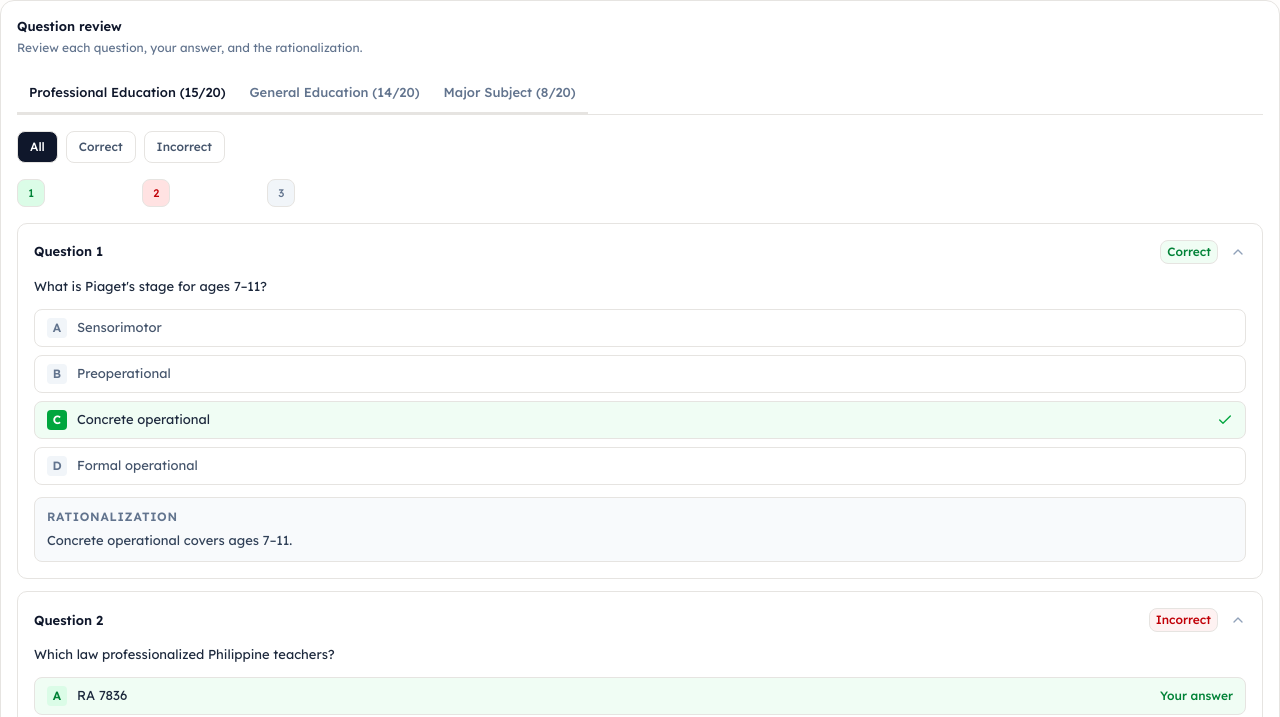
Test: QuestionReview › expands and collapses question detail
The image size is (1280, 717).
Check: the text "What is Piaget's stage for ages 7–11?" is shown, box 34,278 -> 267,294
Click the button with test id "question-toggle" showing "Question 1 Correct". click: x=65, y=251
box: 34,240 -> 1246,264
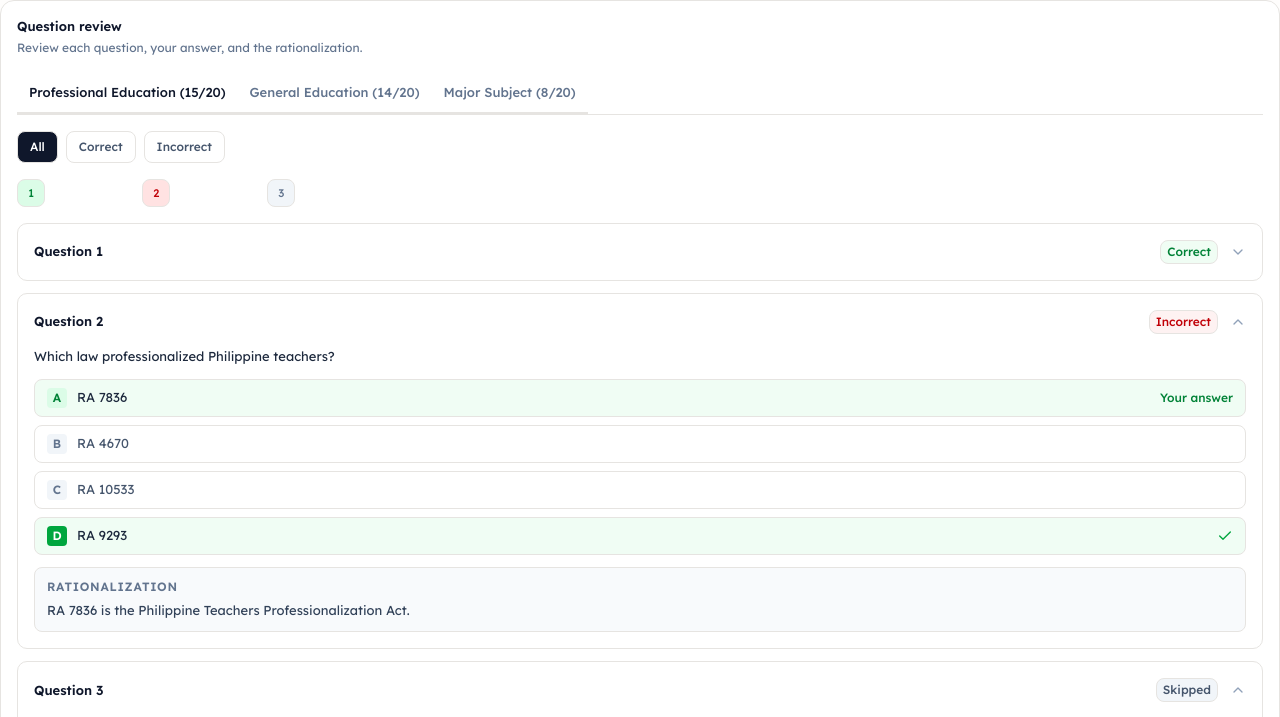
Check: the text "What is Piaget's stage for ages 7–11?" is gone
Check: the button with test id "question-toggle" is collapsed
Click the button with test id "question-toggle" showing "Question 1 Correct". click: x=65, y=251
box: 34,240 -> 1246,264
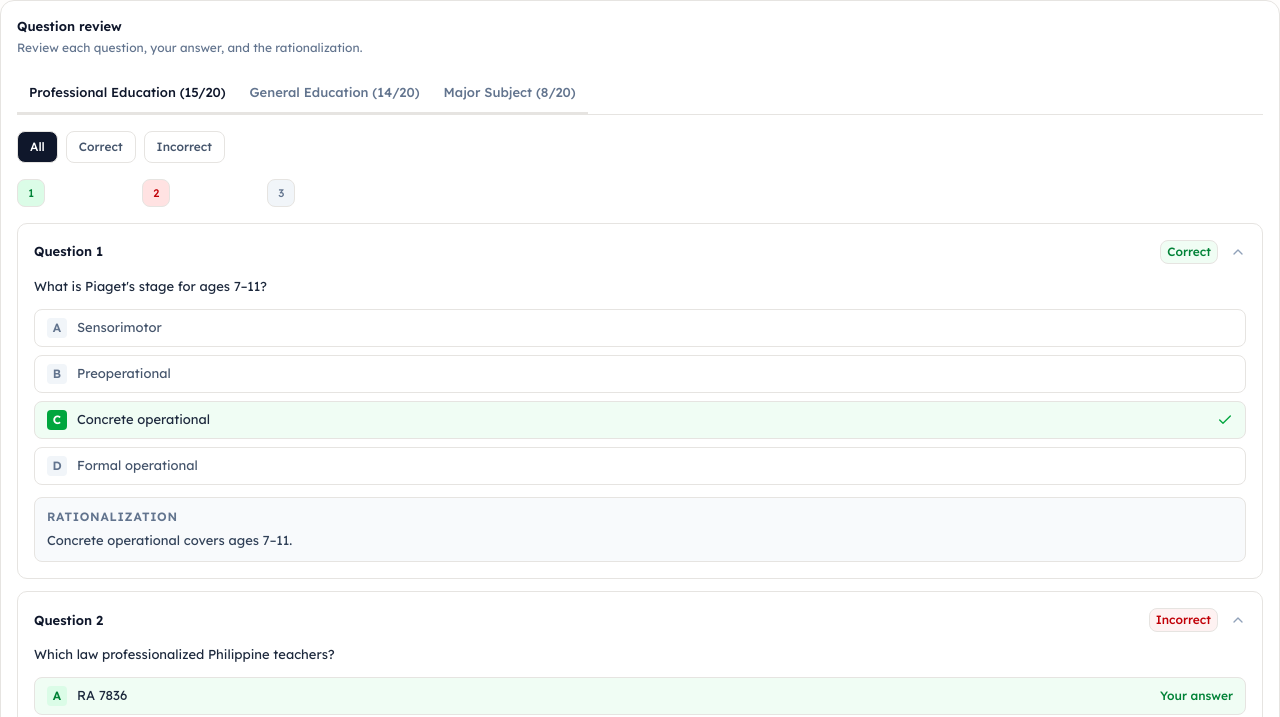
Check: the text "What is Piaget's stage for ages 7–11?" is shown, box 34,278 -> 267,294
Check: the button with test id "question-toggle" is expanded, box 34,240 -> 1246,264
